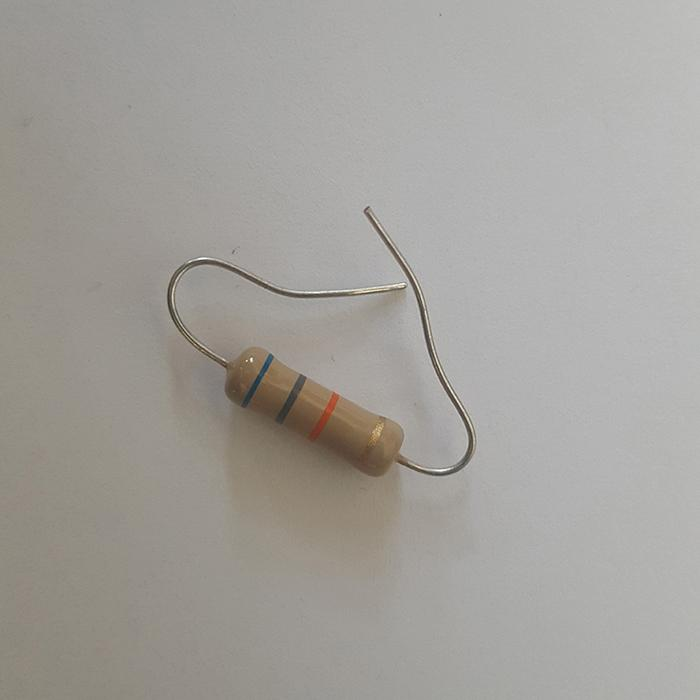resistor: (224, 343, 404, 476)
